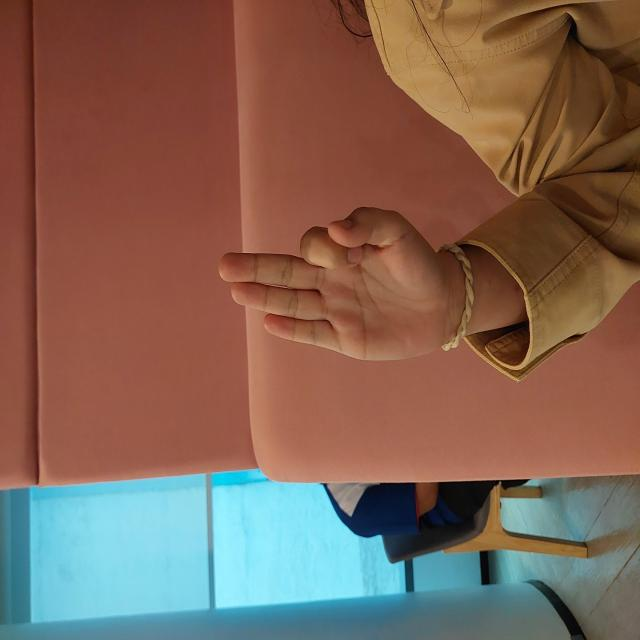F: (274, 212, 444, 466)
